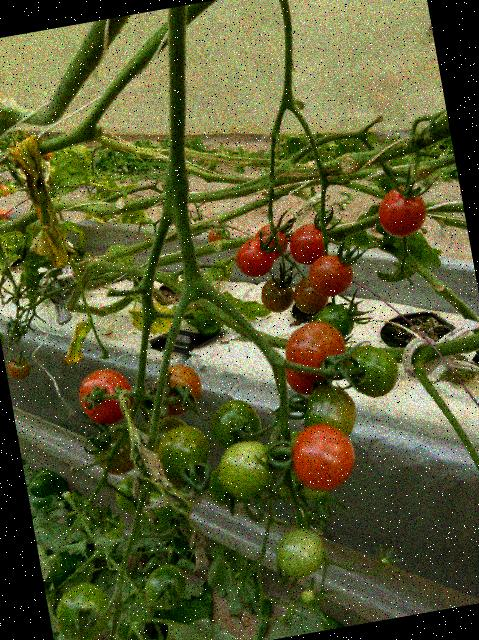l_fully_ripened: (286, 419, 360, 496), (74, 364, 137, 429), (373, 182, 430, 241), (233, 234, 278, 280), (285, 221, 327, 268), (284, 361, 333, 398)
l_green: (214, 436, 281, 503), (150, 422, 214, 490), (297, 380, 361, 444), (338, 339, 402, 403), (49, 579, 115, 640), (205, 395, 265, 453), (271, 524, 330, 582), (88, 421, 146, 478), (138, 560, 191, 614), (204, 461, 243, 508), (313, 300, 356, 342), (112, 472, 148, 515), (100, 513, 125, 541), (303, 480, 330, 503), (300, 587, 316, 605)
l_half_ripened: (280, 316, 351, 387), (148, 361, 206, 418), (304, 250, 356, 300), (290, 272, 331, 316), (257, 273, 296, 315), (252, 221, 290, 263), (4, 356, 31, 381)
